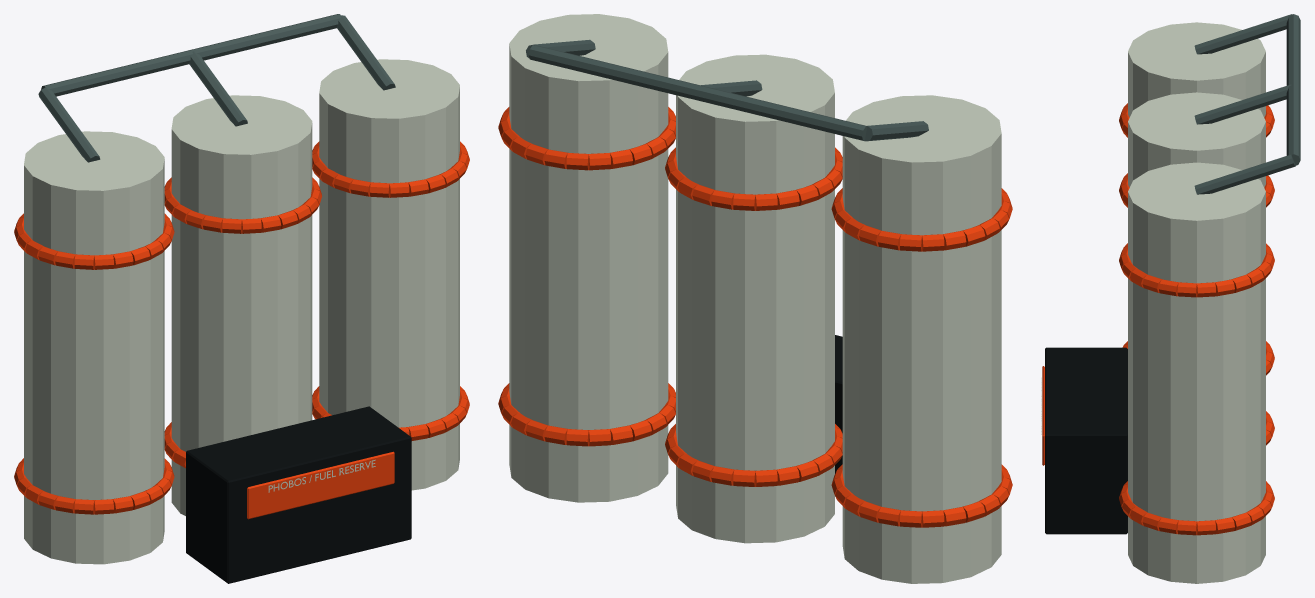
Rendered from SM_MP_Port_Tank_Farm.fbx.
The picture shows the model from 3 angles, left to right: view 1: azimuth 30°, elevation 25°; view 2: azimuth 150°, elevation 25°; view 3: azimuth 270°, elevation 25°; orthographic projection. The views are drawn at different scales.
Visible parts, largest first — view 1: SM_MP_Port_Tank_Farm; view 2: SM_MP_Port_Tank_Farm; view 3: SM_MP_Port_Tank_Farm.
Part boxes in pixels (x1,y1,x2,y2): SM_MP_Port_Tank_Farm: (14, 14, 469, 583); SM_MP_Port_Tank_Farm: (498, 14, 1012, 583); SM_MP_Port_Tank_Farm: (1041, 14, 1300, 583).
Bounding box in the file's own units: 706 × 375 × 650.
1 material, 1 textured.
